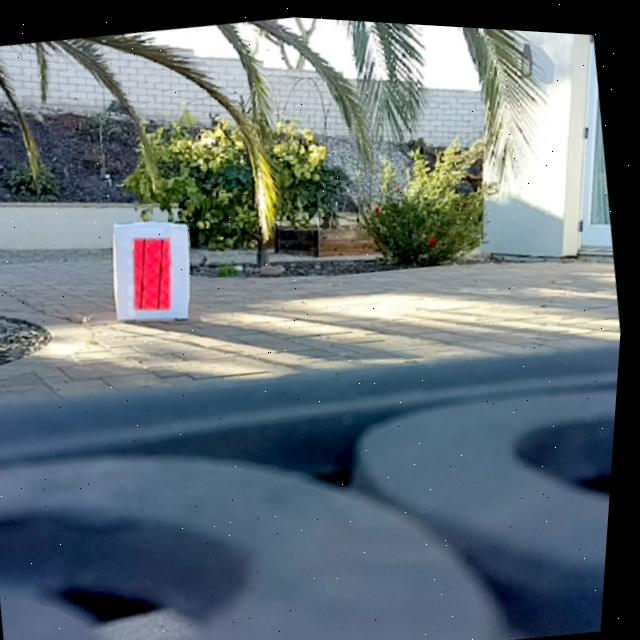led: (132, 229, 182, 320)
